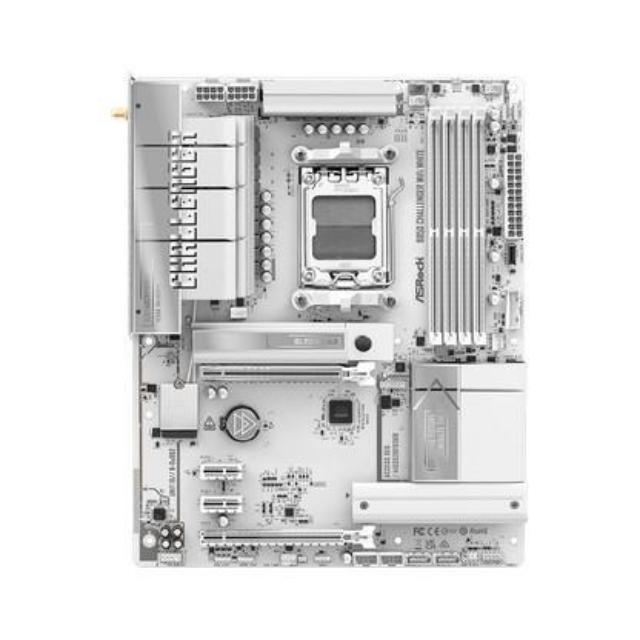Mainboard: (111, 58, 548, 572)
